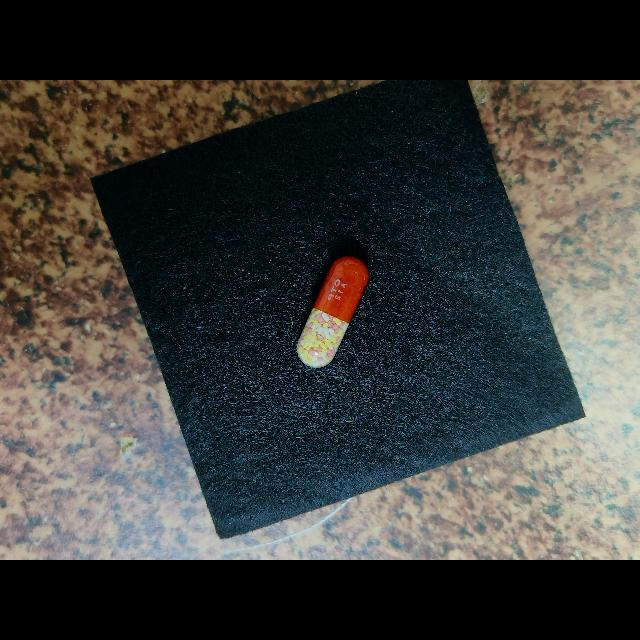Intact Capsule: (297, 257, 370, 368)
